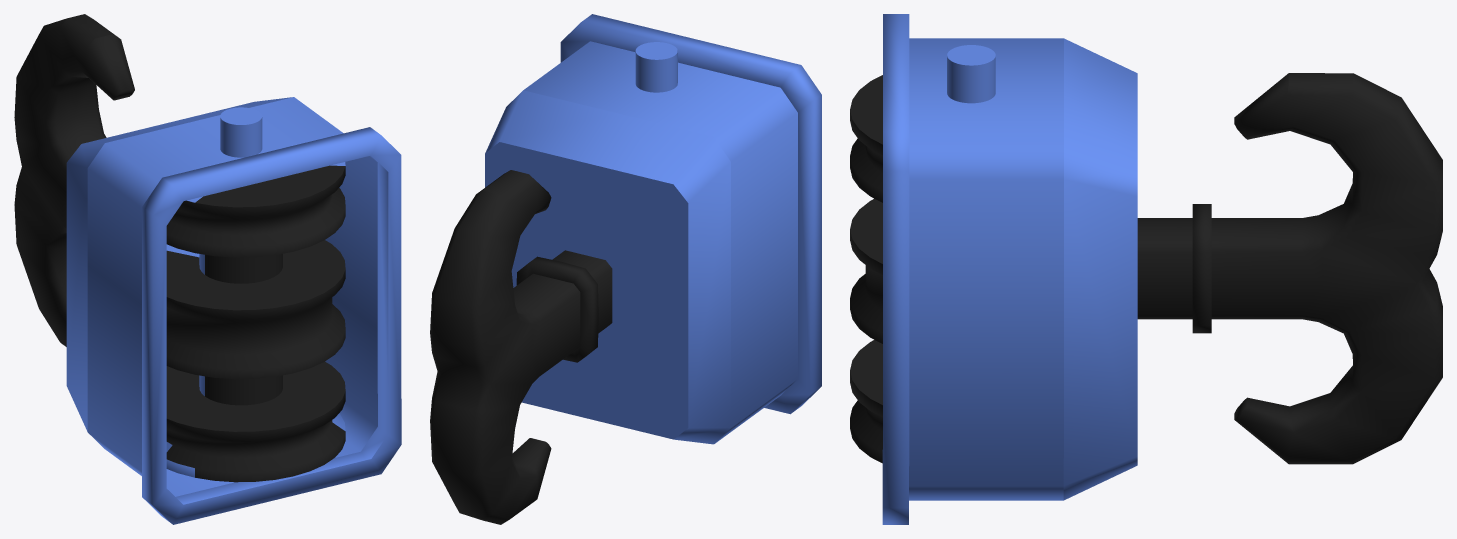
Rendered from hook.glb.
3 renders of one model, left to right at view 1: azimuth 30°, elevation 25°; view 2: azimuth 150°, elevation 25°; view 3: azimuth 270°, elevation 25°, orthographic. The views are drawn at different scales.
Visible parts, largest first — view 1: Object_16; view 2: Object_16; view 3: Object_16.
Part boxes in pixels (box(x1,y1,x2,y2)): Object_16: box(14, 14, 401, 524); Object_16: box(430, 14, 821, 524); Object_16: box(850, 14, 1442, 524).
Bounding box in the file's own units: 0.8384 × 1.19 × 1.5.
